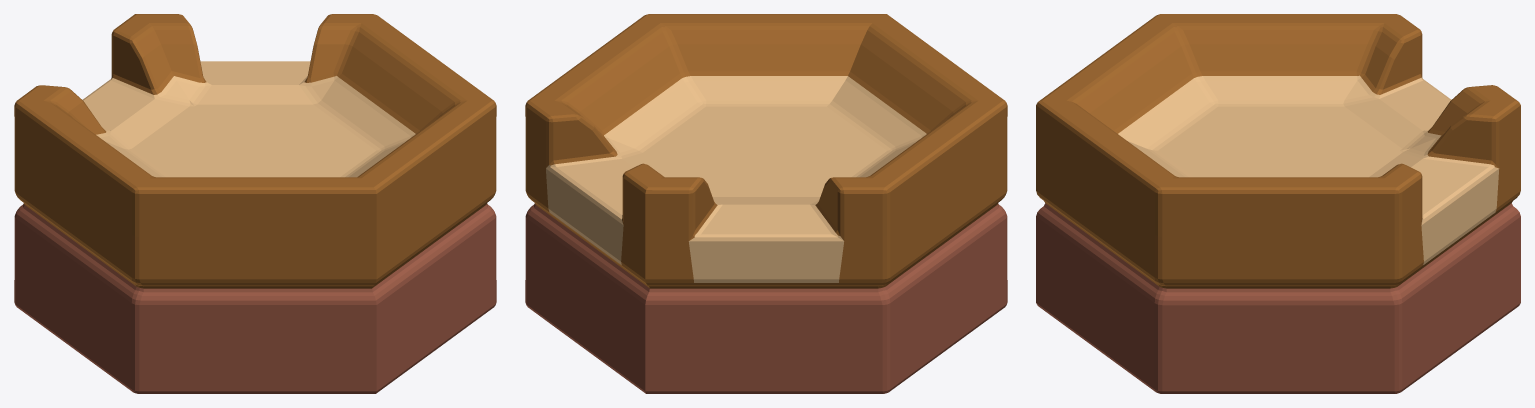
File: my_road_12.fbx
The picture shows the model from 3 angles, left to right: view 1: azimuth 30°, elevation 25°; view 2: azimuth 150°, elevation 25°; view 3: azimuth 270°, elevation 25°; orthographic projection.
Parts seen in each view (by area): view 1: Circle.003; view 2: Circle.003; view 3: Circle.003.
Boxes of the visible parts, x1,y1,x2,y2 form: Circle.003: (14, 14, 496, 393); Circle.003: (525, 14, 1007, 393); Circle.003: (1036, 14, 1520, 393).
Size of the model in its own units: 200 by 109 by 231.
